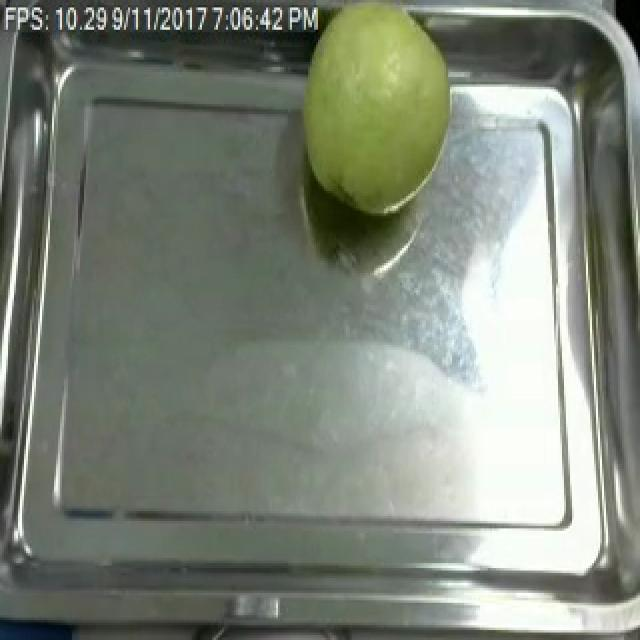Fruit: (288, 0, 462, 226)
